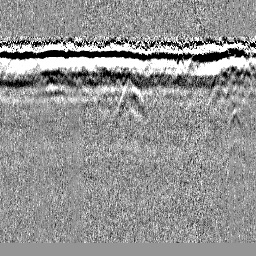cavity: (116, 76, 147, 114)
